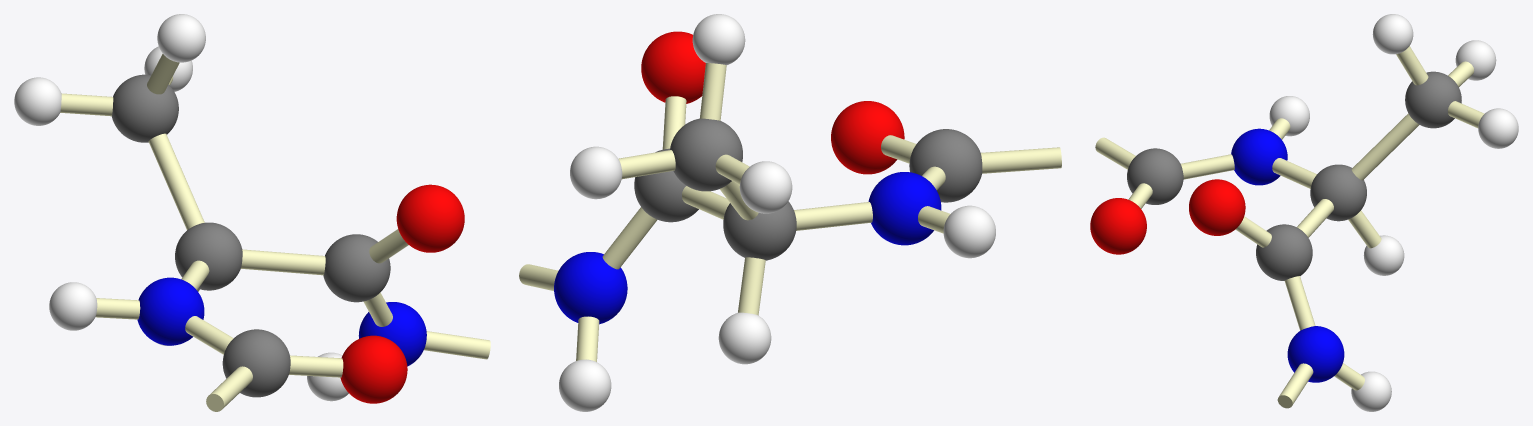
File: conformation.gltf
3 views of the same model, side by side, from view 1: azimuth 30°, elevation 25°; view 2: azimuth 150°, elevation 25°; view 3: azimuth 270°, elevation 25° (orthographic). The views are drawn at different scales.
Visible parts, largest first — view 1: ?????????6, ?????????2, ?????????3, ?????????5, ?????????9, ?????????1, ?????????4, ?????????13, ?????????22, ?????????12, ?????????7, ?????????10 (+13 smaller); view 2: ?????????13, ?????????2, ?????????3, ?????????9, ?????????6, ?????????1, ?????????4, ?????????5, ?????????7, ?????????14, ?????????11, ?????????10 (+16 smaller); view 3: ?????????2, ?????????6, ?????????5, ?????????3, ?????????13, ?????????1, ?????????9, ?????????4, ?????????22, ?????????12, ?????????11, ?????????8 (+14 smaller).
Part boxes in pixels (x1,y1,x2,y2): ?????????6: [396, 184, 464, 252]; ?????????2: [340, 335, 407, 403]; ?????????3: [137, 277, 204, 345]; ?????????5: [323, 234, 390, 302]; ?????????9: [111, 74, 178, 142]; ?????????1: [222, 329, 290, 397]; ?????????4: [175, 222, 242, 290]; ?????????13: [358, 302, 426, 366]; ?????????22: [148, 133, 204, 229]; ?????????12: [157, 14, 205, 62]; ?????????7: [49, 282, 97, 330]; ?????????10: [14, 77, 61, 125]; ?????????13: [554, 252, 627, 324]; ?????????2: [831, 101, 904, 174]; ?????????3: [868, 172, 941, 245]; ?????????9: [670, 118, 742, 191]; ?????????6: [641, 31, 705, 103]; ?????????1: [909, 129, 982, 202]; ?????????4: [723, 201, 796, 260]; ?????????5: [634, 148, 698, 222]; ?????????7: [943, 205, 995, 258]; ?????????14: [559, 359, 611, 411]; ?????????11: [570, 146, 622, 199]; ?????????10: [739, 161, 792, 213]; ?????????2: [1090, 198, 1146, 254]; ?????????6: [1189, 179, 1245, 235]; ?????????5: [1256, 224, 1312, 280]; ?????????3: [1231, 128, 1287, 185]; ?????????13: [1287, 326, 1344, 382]; ?????????1: [1127, 148, 1183, 204]; ?????????9: [1405, 71, 1461, 128]; ?????????4: [1310, 164, 1366, 221]; ?????????22: [1351, 113, 1419, 180]; ?????????12: [1372, 14, 1413, 54]; ?????????11: [1478, 108, 1518, 148]; ?????????8: [1363, 235, 1404, 275].
Bounding box in the file's own units: 51.8 × 46.07 × 52.85.
